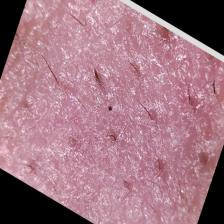Dry: (1, 0, 223, 224)
